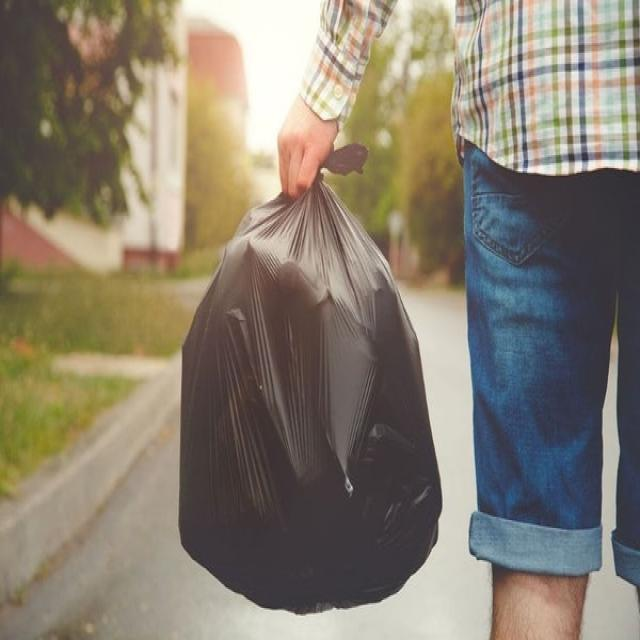sampah-detection: (176, 126, 448, 624)
